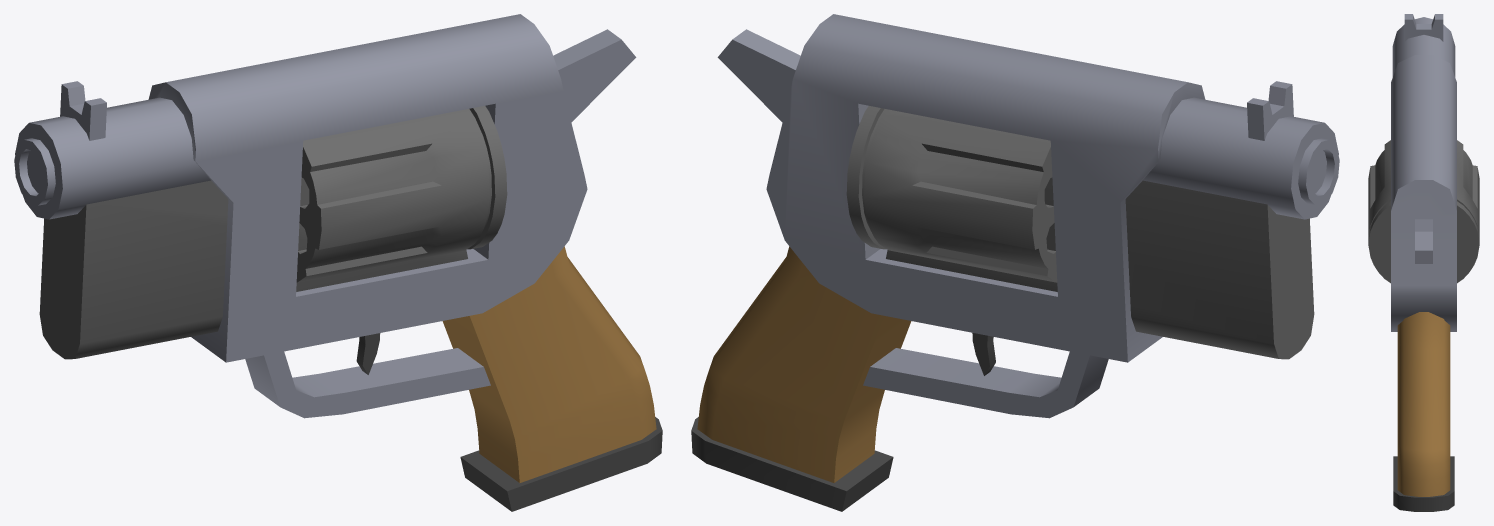
File: quaternius-toon-shooter-game-revolver-small.glb
3 renders of one model, left to right at view 1: azimuth 30°, elevation 25°; view 2: azimuth 150°, elevation 25°; view 3: azimuth 270°, elevation 25°, orthographic. The views are drawn at different scales.
Visible parts, largest first — view 1: Revolver_Small; view 2: Revolver_Small; view 3: Revolver_Small.
Boxes of the visible parts, box(x1,y1,x2,y2) form: Revolver_Small: box(14, 14, 662, 511); Revolver_Small: box(691, 14, 1339, 511); Revolver_Small: box(1368, 14, 1479, 511).
Size of the model in its own units: 0.6632 by 0.5097 by 0.1576.
